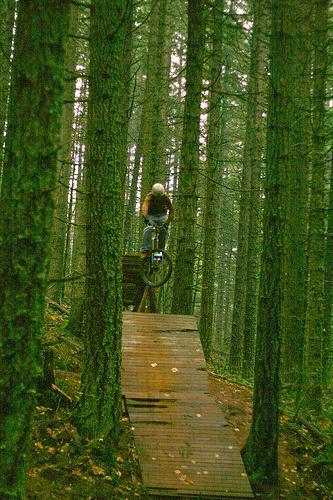car: (142, 225, 174, 288)
person: (143, 184, 175, 264)
